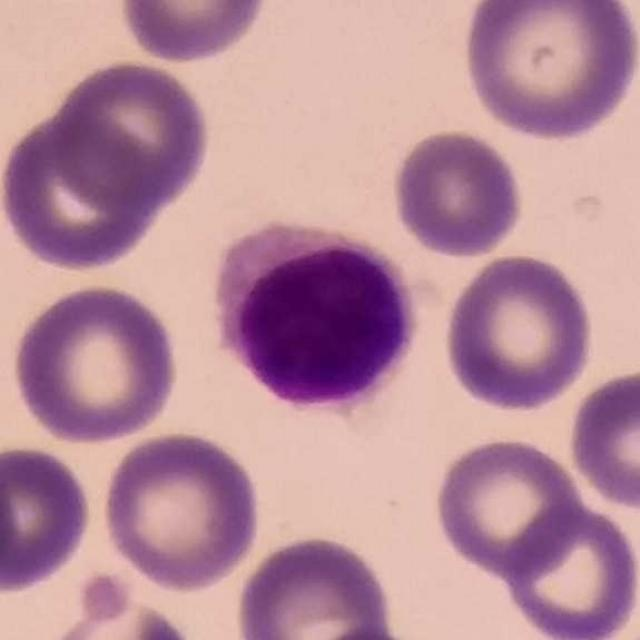Lymphocyte: (208, 214, 426, 422)
RBC: (8, 279, 182, 446), (0, 102, 165, 276), (98, 426, 264, 594), (48, 55, 214, 214), (440, 249, 598, 415), (458, 0, 640, 143), (430, 433, 588, 580), (499, 500, 639, 640), (388, 126, 528, 259), (232, 530, 400, 640), (0, 441, 97, 596), (564, 365, 640, 513), (115, 0, 272, 66), (36, 579, 208, 639), (300, 623, 440, 640)
